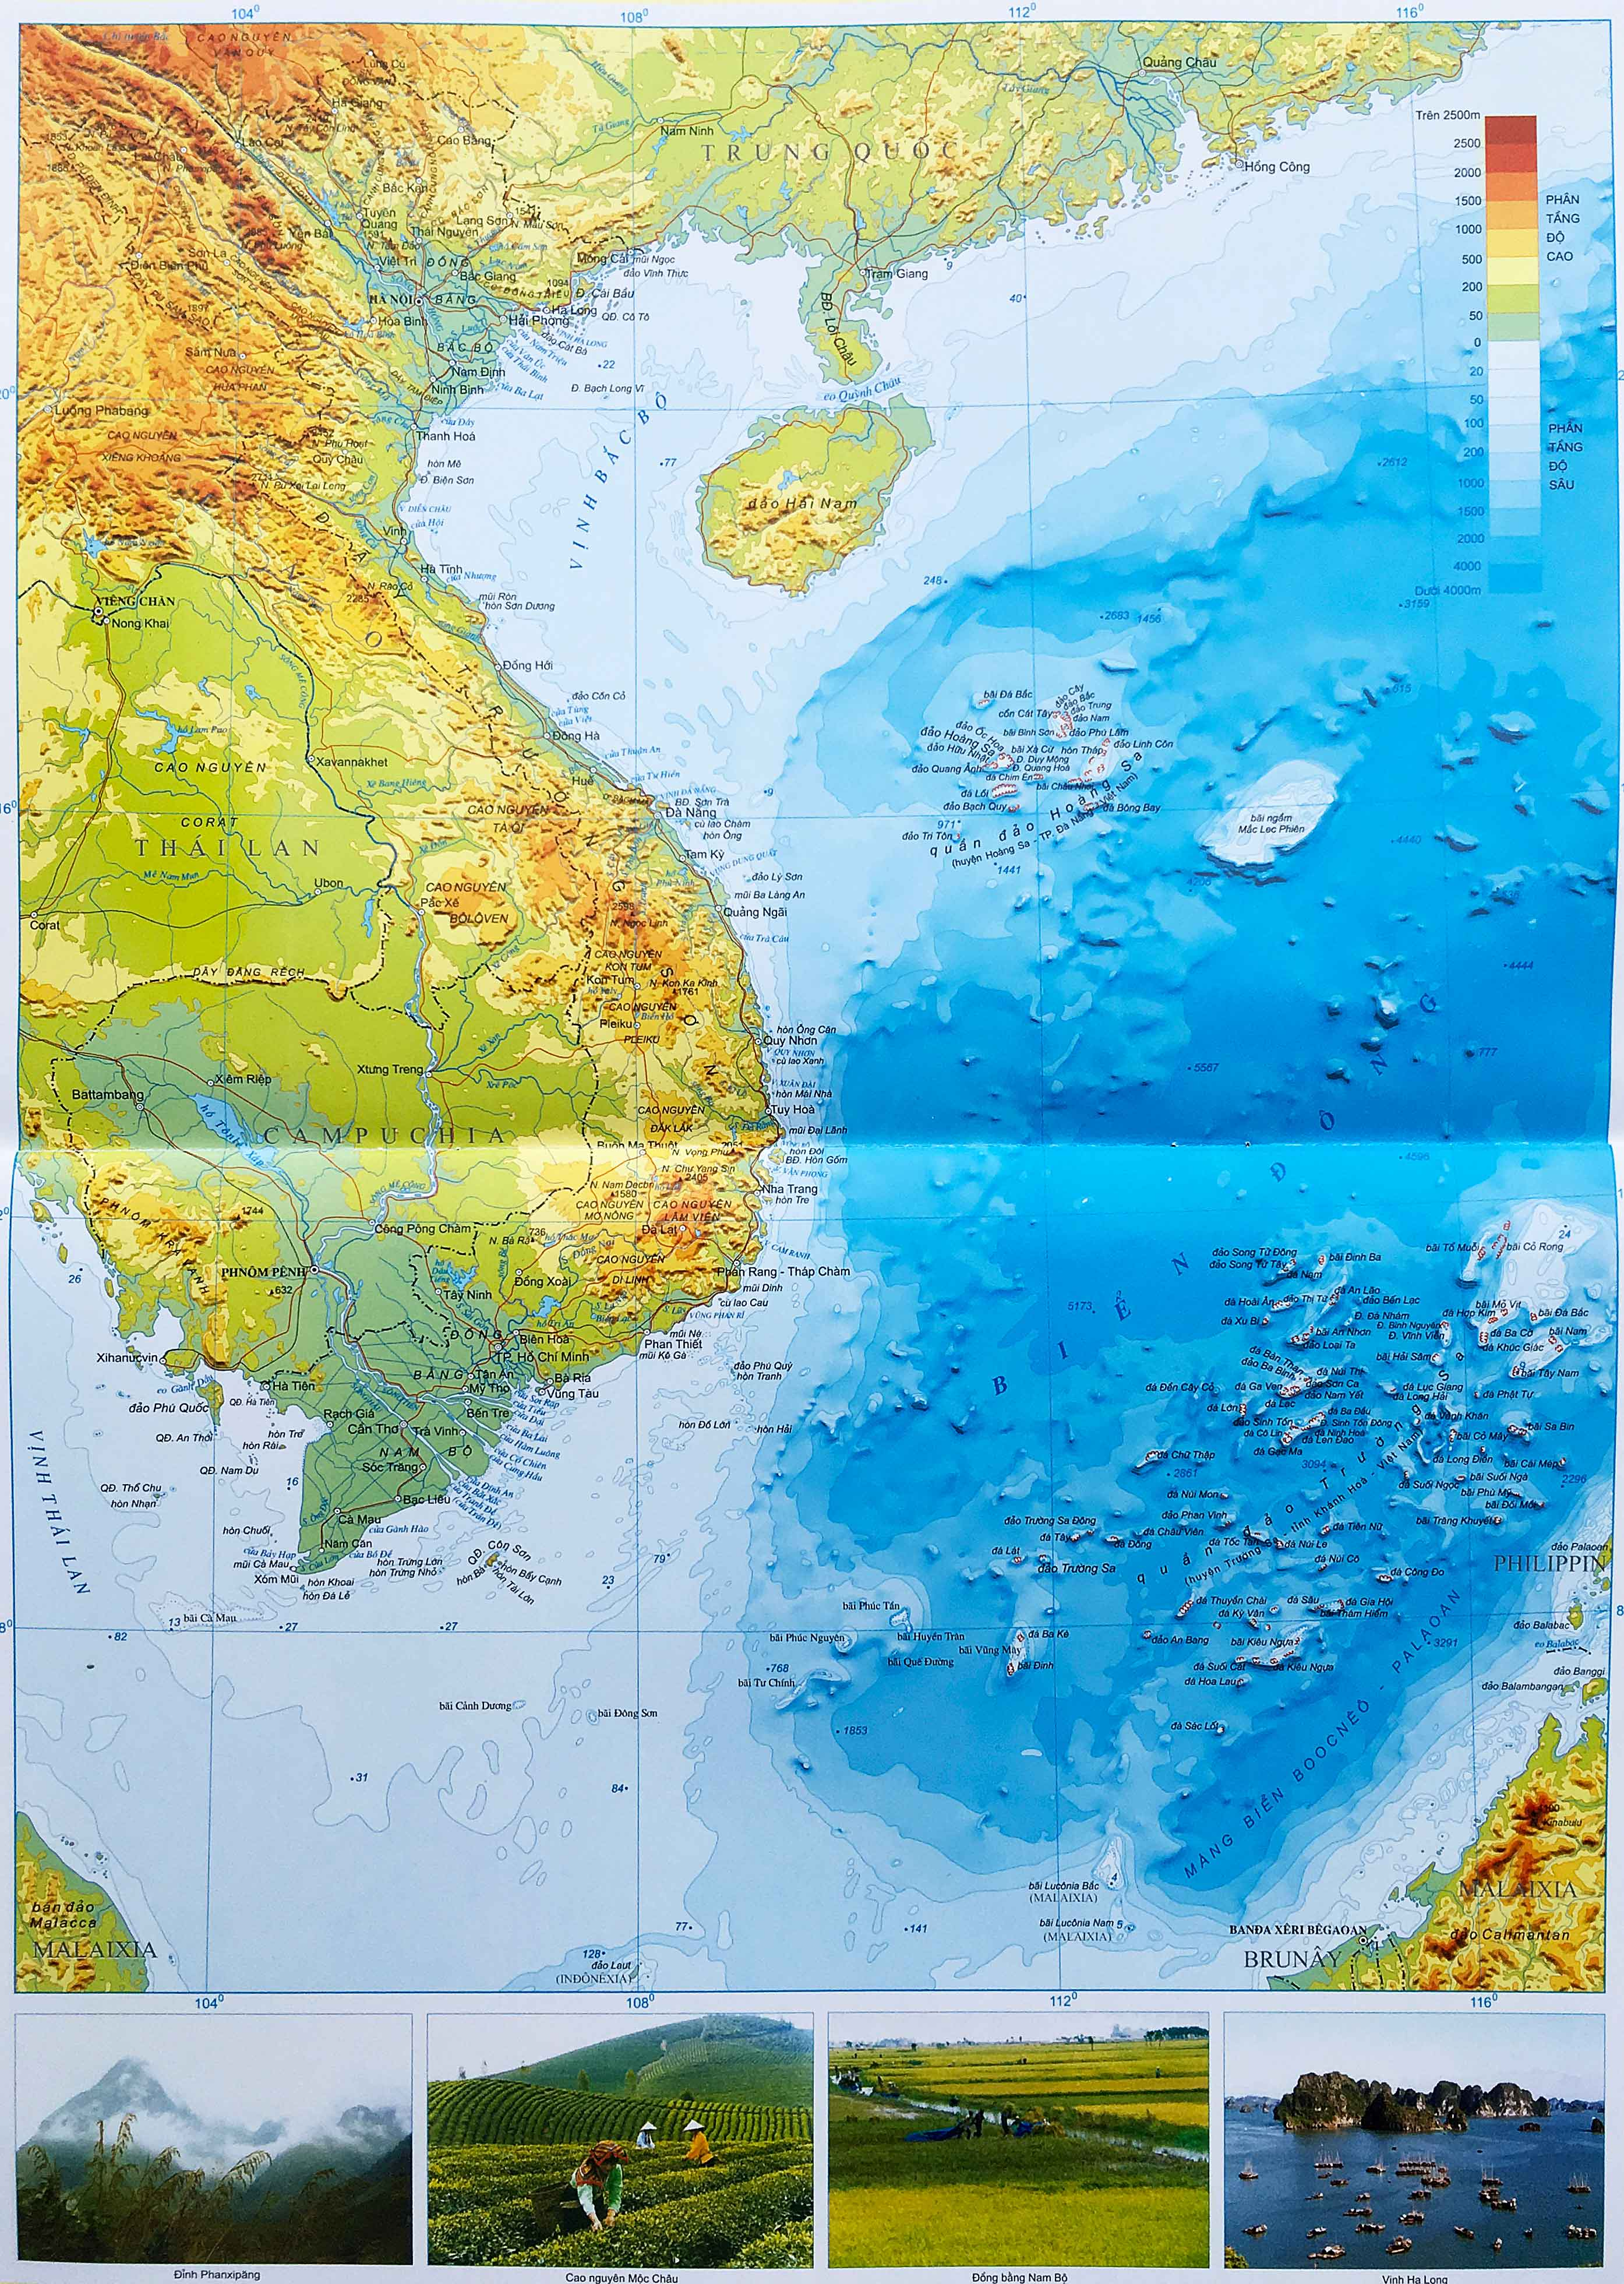Island: (1026, 1164, 1584, 1698), (895, 647, 1132, 869)
